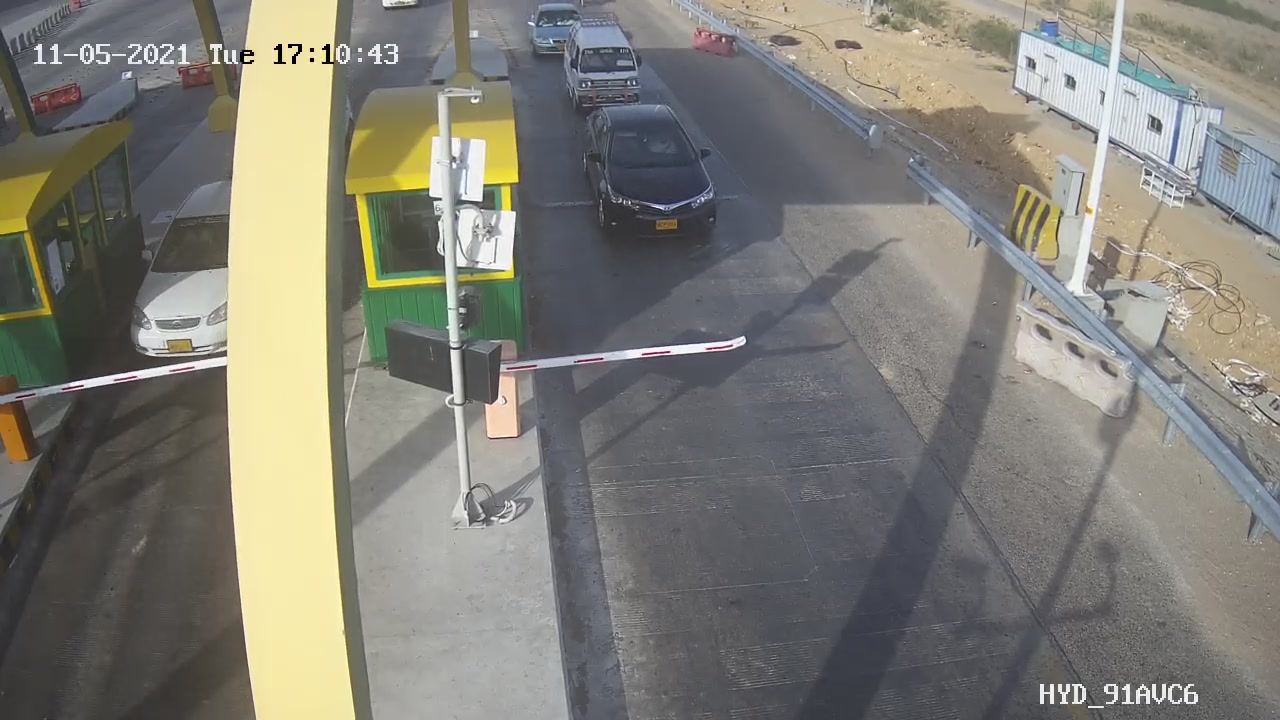F1: (564, 92, 740, 262), (548, 5, 661, 129)
